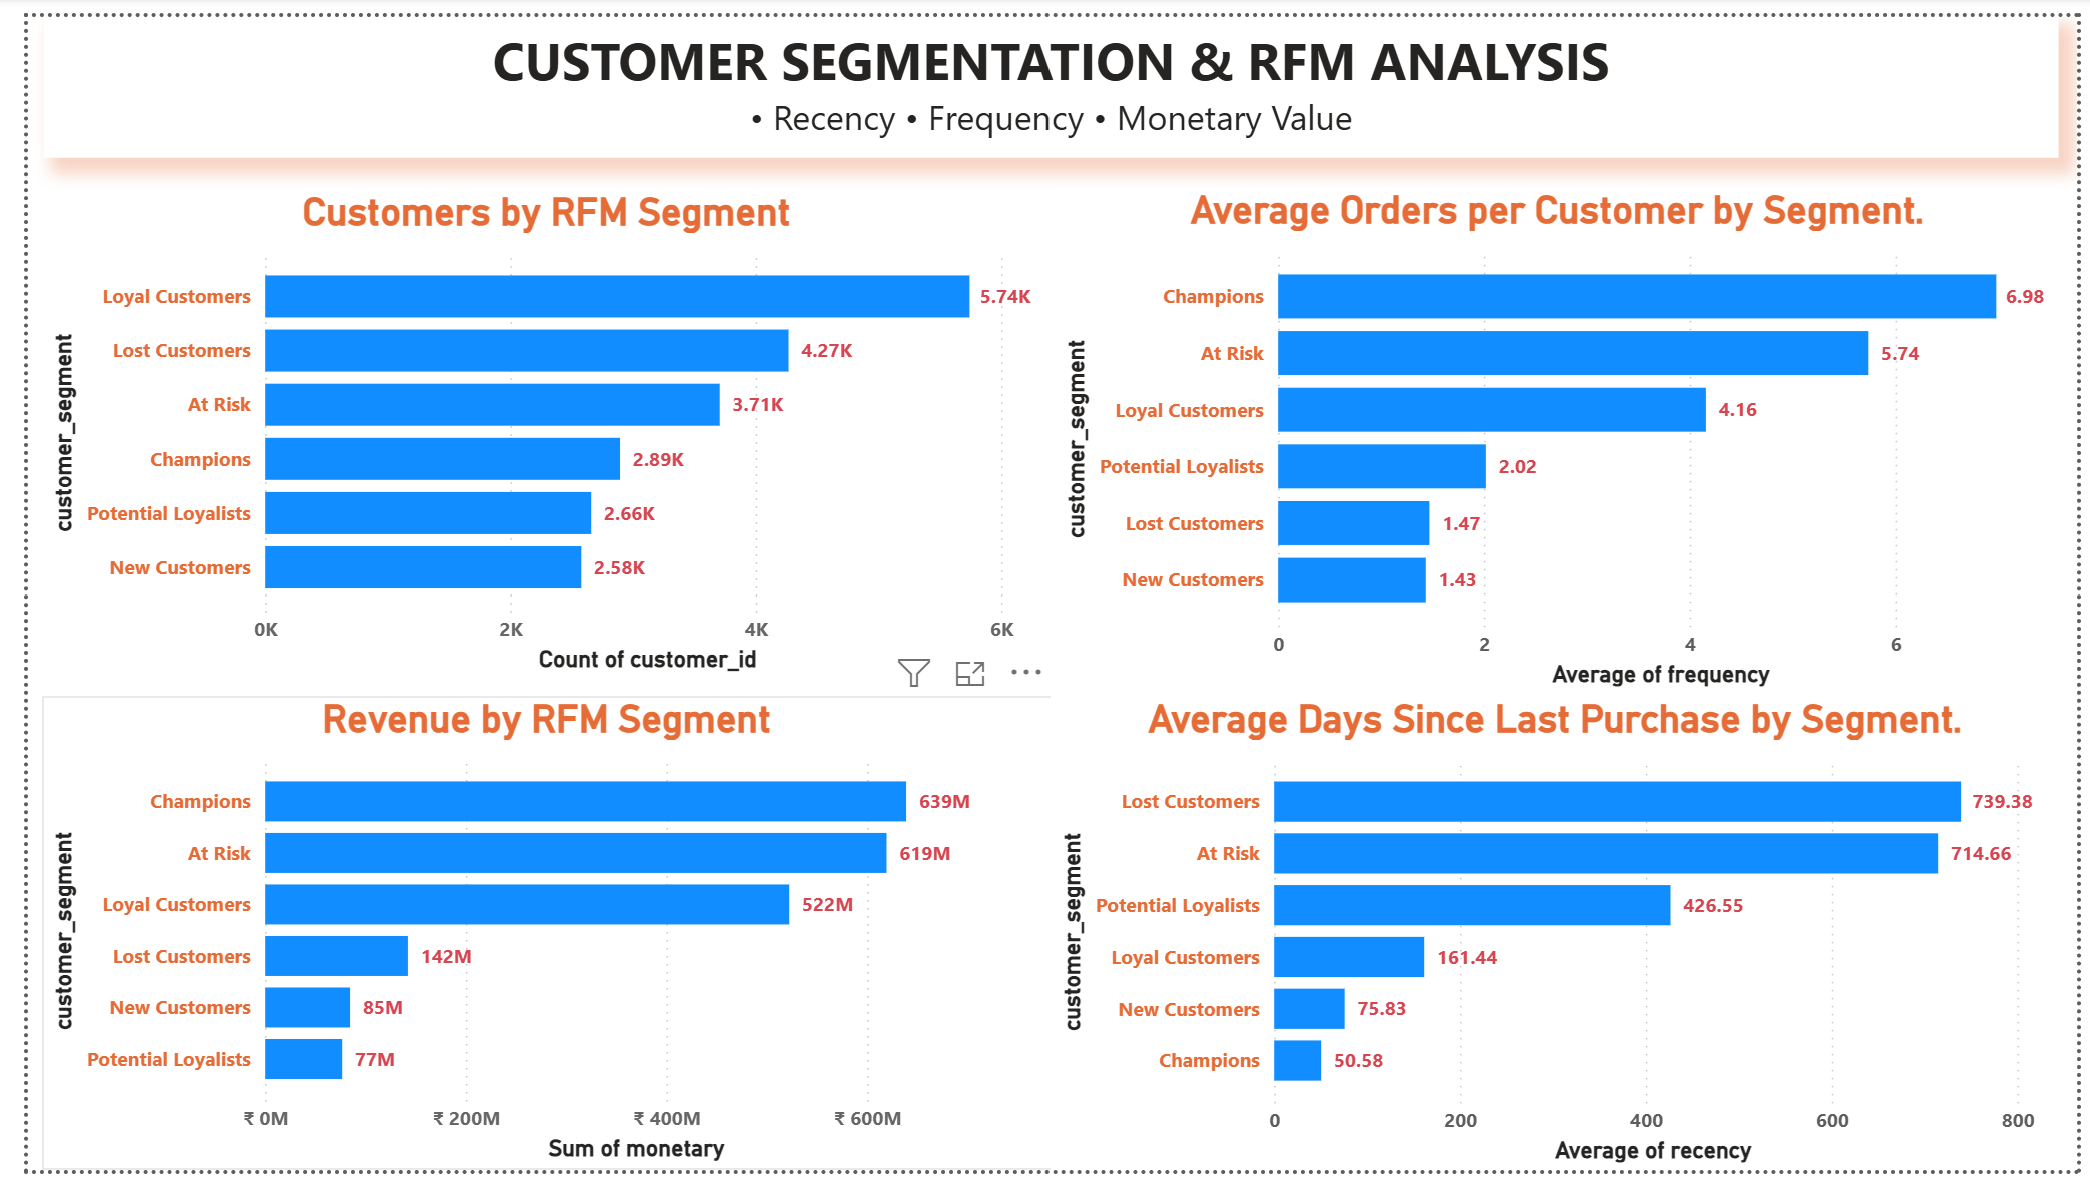

The dashboard page shown, as its layout file describes it:
{"tool":"powerbi","page":{"name":"Customer Segmentation","canvas":[1280,720],"ordinal":4},"visuals":[{"type":"textbox","box":[10,0,1258.4,88],"z":0},{"type":"clusteredBarChart","title":"Customers by RFM Segment","fields":{"Category":["customer_behaviour_db customer_rfm_segments.customer_segment"],"Y":["CountNonNull(customer_behaviour_db customer_rfm_segments.customer_id)"]},"box":[9.2,107.2,630.8,306.2],"z":1000},{"type":"clusteredBarChart","title":"Revenue by RFM Segment","fields":{"Category":["customer_behaviour_db customer_rfm_segments.customer_segment"],"Y":["Sum(customer_behaviour_db customer_rfm_segments.monetary)"]},"box":[9.2,424.1,630.8,295.5],"z":2000},{"type":"clusteredBarChart","title":"Average Orders per Customer by Segment.","fields":{"Category":["customer_rfm_segments.customer_segment"],"Y":["Avg(customer_rfm_segments.frequency)"]},"box":[641,106.8,627.4,316.6],"z":2001},{"type":"clusteredBarChart","title":"Average Days Since Last Purchase by Segment.","fields":{"Category":["customer_rfm_segments.customer_segment"],"Y":["Avg(customer_rfm_segments.recency)"]},"box":[639.2,423.5,629.7,296.6],"z":2002}]}

Visuals, with their boxes in screenshot pixels (x1, y1, x2, y2), scaled from the page's 1280x720 canvas onto the 2090x1186 screenshot:
textbox: 16, 0, 2071, 145
"Customers by RFM Segment" clusteredBarChart: 15, 177, 1045, 681
"Revenue by RFM Segment" clusteredBarChart: 15, 699, 1045, 1185
"Average Orders per Customer by Segment." clusteredBarChart: 1047, 176, 2071, 697
"Average Days Since Last Purchase by Segment." clusteredBarChart: 1044, 698, 2072, 1185
